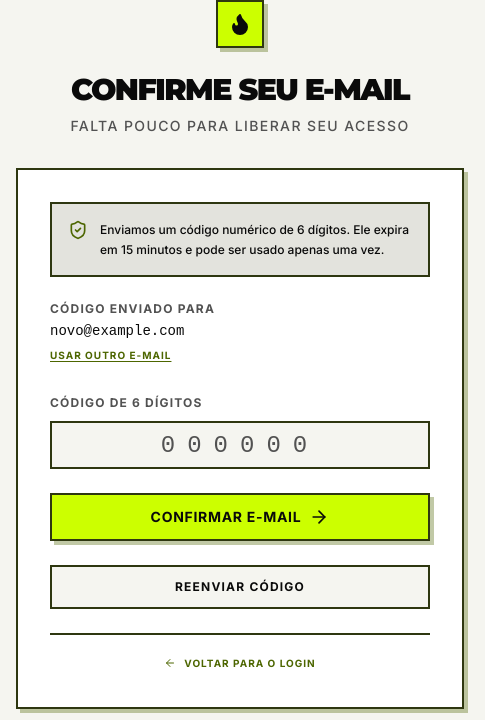
Test case: VerifyEmailPage (BL-12) › reenvia o código e respeita o novo intervalo de 60 s
Click the button "Reenviar código" at (240, 587), box [50,565,430,609]
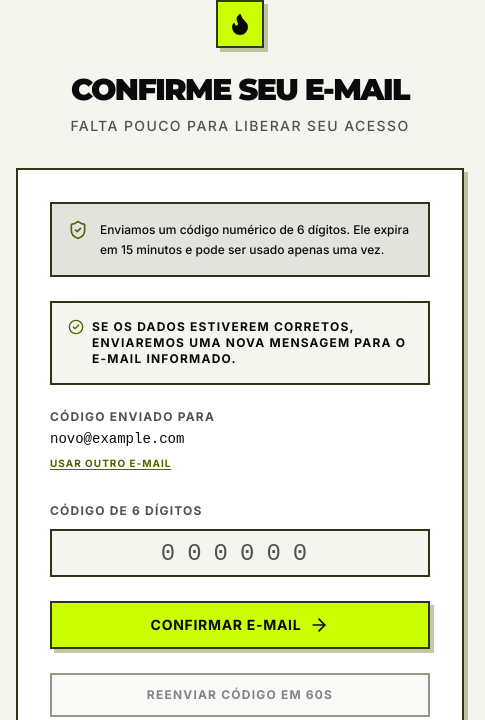
expect the text "Se os dados estiverem corretos, enviaremos uma nova mensagem" is shown: met, box [92,319,406,366]
expect the button "Reenviar código em 60s" is disabled: met, box [50,673,430,717]
